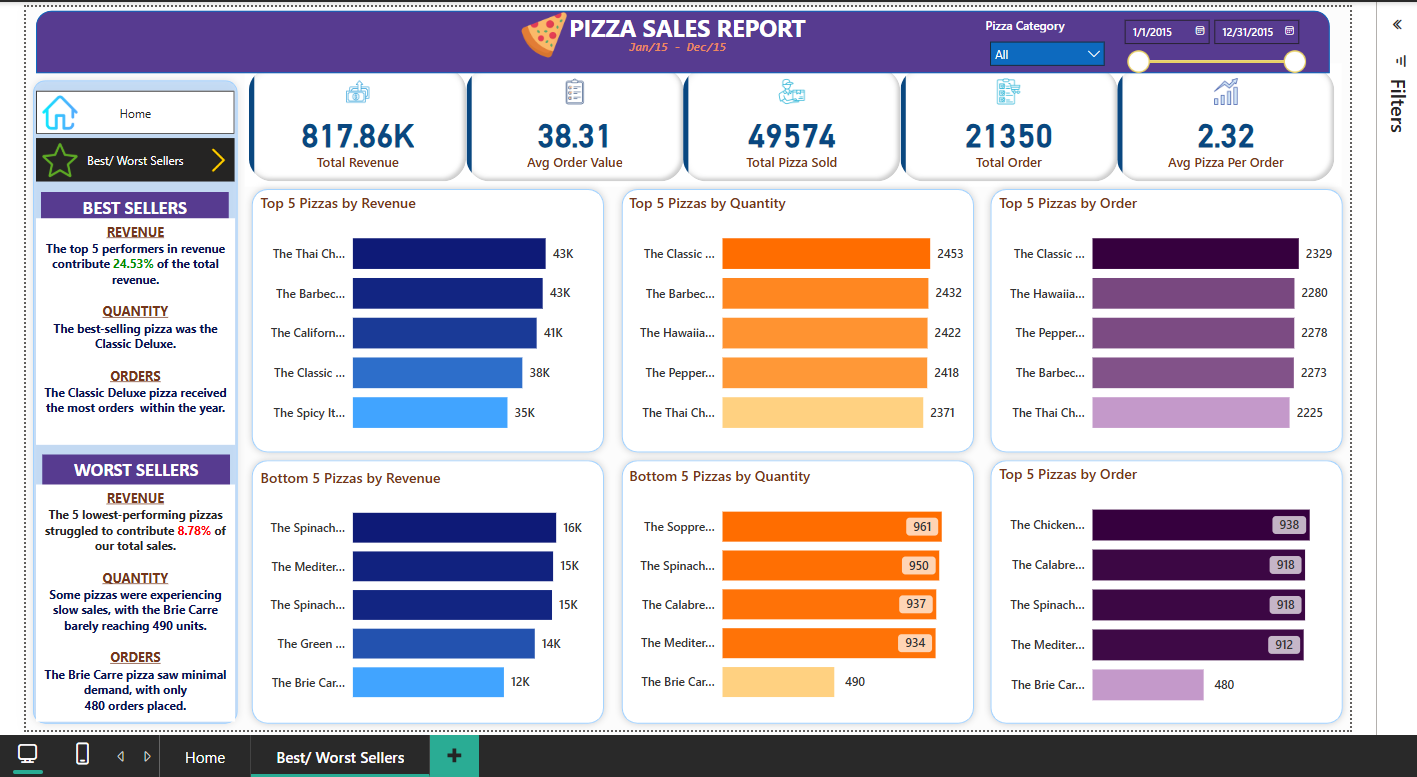

The page's visual inventory and layout, read from the dashboard file:
{"tool":"powerbi","page":{"name":"Best/ Worst Sellers","canvas":[1500,820],"ordinal":1},"visuals":[{"type":"cardVisual","fields":{"Data":["pizza_sales.Total Revenue","pizza_sales.Avg Order Value","pizza_sales.Total Pizza Sold","pizza_sales.Total Order","pizza_sales.Avg Pizza Per Order"]},"box":[247.6,64.3,1243,139.9],"z":0},{"type":"shape","box":[11.3,4.3,1466.3,70.8],"z":1000},{"type":"textbox","box":[604.9,0,289,52.4],"z":2000},{"type":"textbox","box":[672.9,31.2,130.3,29.8],"z":3000},{"type":"image","box":[552.5,0,69.4,63.8],"z":4000},{"type":"shape","box":[247.9,198.3,415.1,314.5],"z":5000},{"type":"shape","box":[0,75.1,247.9,745.2],"z":6000},{"type":"textbox","box":[17,209.7,212.5,38.3],"z":7000},{"type":"textbox","box":[11.3,239.4,225.3,256.4],"z":8000},{"type":"textbox","box":[18.4,507.2,212.5,38.3],"z":9000},{"type":"textbox","box":[11.3,541.2,225.3,269.2],"z":10000},{"type":"slicer","title":"Pizza Category","fields":{"Values":["pizza_sales.pizza_category"]},"box":[1082.4,11.3,150.2,58.1],"z":11000},{"type":"slicer","title":"Pizza Category","fields":{"Values":["pizza_sales.order_date"]},"box":[1232.6,4.3,226.7,72.3],"z":12000},{"type":"shape","box":[667.3,198.3,415.1,314.5],"z":13000},{"type":"shape","box":[667.3,505.8,415.1,314.5],"z":14000},{"type":"shape","box":[1085.2,198.3,415.1,314.5],"z":15000},{"type":"shape","box":[247.9,505.5,415.1,314.5],"z":16000},{"type":"shape","box":[1085.2,505.8,415.1,314.5],"z":17000},{"type":"barChart","title":"Top 5 Pizzas by Revenue","fields":{"Category":["pizza_sales.pizza_name"],"Y":["pizza_sales.Total Revenue"]},"box":[260.7,209.7,388.2,291.8],"z":18000},{"type":"barChart","title":"Bottom 5 Pizzas by Revenue","fields":{"Category":["pizza_sales.pizza_name"],"Y":["pizza_sales.Total Revenue"]},"box":[260.7,521.4,388.2,284.8],"z":19000},{"type":"barChart","title":"Top 5 Pizzas by Quantity","fields":{"Category":["pizza_sales.pizza_name"],"Y":["pizza_sales.Total Pizza Sold"]},"box":[678.6,209.7,391,291.8],"z":20000},{"type":"barChart","title":"Bottom 5 Pizzas by Quantity","fields":{"Category":["pizza_sales.pizza_name"],"Y":["pizza_sales.Total Pizza Sold"]},"box":[678.6,519.9,391,286.2],"z":21000},{"type":"barChart","title":"Top 5 Pizzas by Order","fields":{"Category":["pizza_sales.pizza_name"],"Y":["pizza_sales.Total Order"]},"box":[1098,209.7,391,291.8],"z":22000},{"type":"barChart","title":"Top 5 Pizzas by Order","fields":{"Category":["pizza_sales.pizza_name"],"Y":["pizza_sales.Total Order"]},"box":[1098,517.1,391,293.3],"z":23000},{"type":"pageNavigator","box":[11.3,94.9,225.3,49.6],"z":24000},{"type":"pageNavigator","box":[11.3,148.8,225.3,49.6],"z":25000},{"type":"image","box":[11.3,94.9,53.8,49.6],"z":26000},{"type":"image","box":[11.3,148.8,53.8,49.6],"z":27000},{"type":"image","box":[199.8,148.8,36.8,49.6],"z":28000}]}

Visuals, with their boxes on the page's 1500x820 design canvas (x1, y1, x2, y2). These are canvas units, not pixel positions in the 1417x777 screenshot, which may show the page scaled, cropped or inside an application window:
cardVisual - pizza_sales.Total Revenue x pizza_sales.Avg Order Value: region(248, 64, 1491, 204)
shape: region(11, 4, 1478, 75)
textbox: region(605, 0, 894, 52)
textbox: region(673, 31, 803, 61)
image: region(552, 0, 622, 64)
shape: region(248, 198, 663, 513)
shape: region(0, 75, 248, 820)
textbox: region(17, 210, 230, 248)
textbox: region(11, 239, 237, 496)
textbox: region(18, 507, 231, 546)
textbox: region(11, 541, 237, 810)
"Pizza Category" slicer: region(1082, 11, 1233, 69)
"Pizza Category" slicer: region(1233, 4, 1459, 77)
shape: region(667, 198, 1082, 513)
shape: region(667, 506, 1082, 820)
shape: region(1085, 198, 1500, 513)
shape: region(248, 506, 663, 820)
shape: region(1085, 506, 1500, 820)
"Top 5 Pizzas by Revenue" barChart: region(261, 210, 649, 502)
"Bottom 5 Pizzas by Revenue" barChart: region(261, 521, 649, 806)
"Top 5 Pizzas by Quantity" barChart: region(679, 210, 1070, 502)
"Bottom 5 Pizzas by Quantity" barChart: region(679, 520, 1070, 806)
"Top 5 Pizzas by Order" barChart: region(1098, 210, 1489, 502)
"Top 5 Pizzas by Order" barChart: region(1098, 517, 1489, 810)
pageNavigator: region(11, 95, 237, 144)
pageNavigator: region(11, 149, 237, 198)
image: region(11, 95, 65, 144)
image: region(11, 149, 65, 198)
image: region(200, 149, 237, 198)
